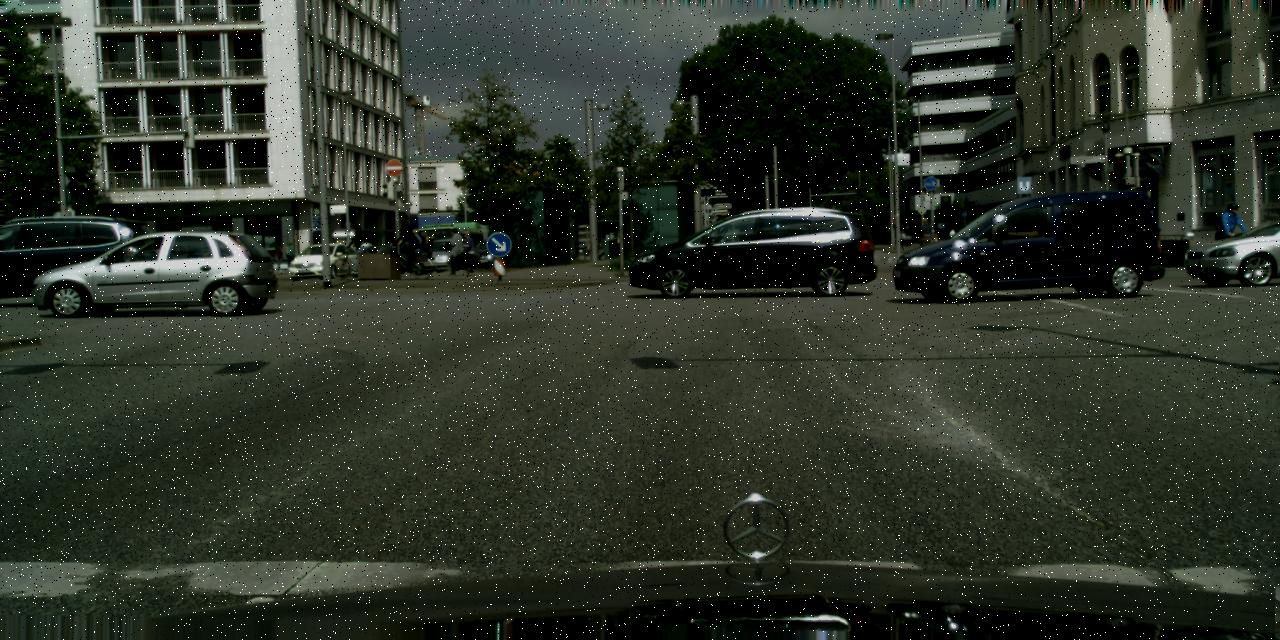ped: (1215, 202, 1239, 260), (447, 227, 467, 275), (397, 220, 416, 268), (916, 218, 934, 261), (458, 230, 476, 272), (349, 225, 366, 267), (407, 231, 419, 261), (273, 244, 283, 270), (286, 242, 296, 267)
